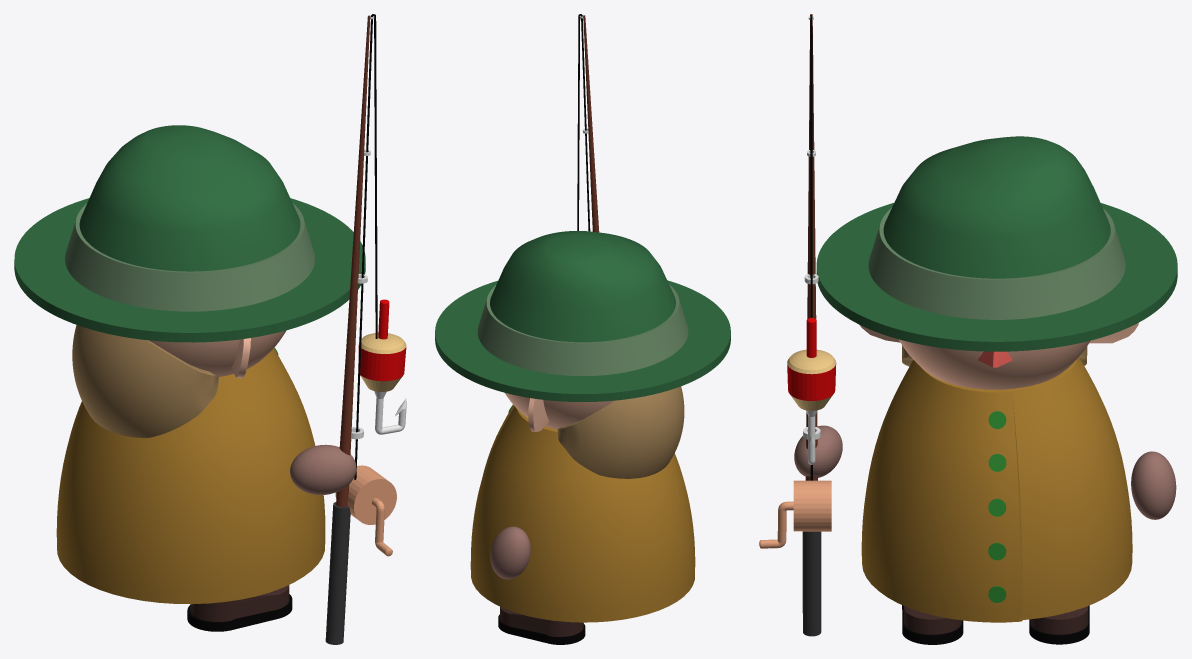
The model's file is IDLE_RIBAK.fbx.
The picture shows the model from 3 angles, left to right: view 1: azimuth 30°, elevation 25°; view 2: azimuth 150°, elevation 25°; view 3: azimuth 270°, elevation 25°; orthographic projection. The views are drawn at different scales.
Parts seen in each view (by area): view 1: Цилиндр.005, Сфера, Окружность, Цилиндр.001, Цилиндр.003, Сфера.002, Цилиндр, Сфера.001, Цилиндр.002, Цилиндр.012; view 2: Цилиндр.005, Сфера, Окружность, Сфера.002, Цилиндр, Сфера.003, Цилиндр.001, Цилиндр.012; view 3: Сфера, Цилиндр.005, Сфера.002, Цилиндр.001, Цилиндр, Цилиндр.003, Цилиндр.002, Сфера.003, Сфера.001, Цилиндр.004, Цилиндр.012.
Part boxes in pixels (x1,y1,x2,y2): Цилиндр.005: (14, 125, 365, 342); Сфера: (56, 348, 325, 604); Окружность: (72, 325, 219, 437); Цилиндр.001: (325, 15, 370, 644); Цилиндр.003: (358, 299, 406, 434); Сфера.002: (149, 330, 286, 378); Цилиндр: (187, 585, 292, 631); Сфера.001: (290, 444, 356, 494); Цилиндр.002: (335, 465, 396, 556); Цилиндр.012: (354, 14, 377, 479); Цилиндр.005: (435, 231, 730, 401); Сфера: (470, 405, 695, 622); Окружность: (557, 386, 684, 478); Сфера.002: (505, 393, 615, 431); Цилиндр: (498, 606, 585, 644); Сфера.003: (490, 526, 530, 579); Цилиндр.001: (583, 15, 599, 232); Цилиндр.012: (577, 14, 590, 231); Сфера: (861, 357, 1132, 622); Цилиндр.005: (816, 136, 1177, 351); Сфера.002: (860, 322, 1138, 389); Цилиндр.001: (802, 14, 821, 636); Цилиндр: (902, 605, 1089, 644); Цилиндр.003: (787, 317, 836, 464); Цилиндр.002: (759, 480, 831, 548); Сфера.003: (1131, 451, 1176, 519); Сфера.001: (794, 425, 842, 477); Цилиндр.004: (988, 411, 1006, 602); Цилиндр.012: (810, 15, 812, 480).
Size of the model in its own units: 171 by 337 by 199.
